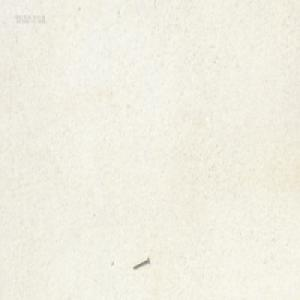Bolt: (131, 257, 149, 270)
